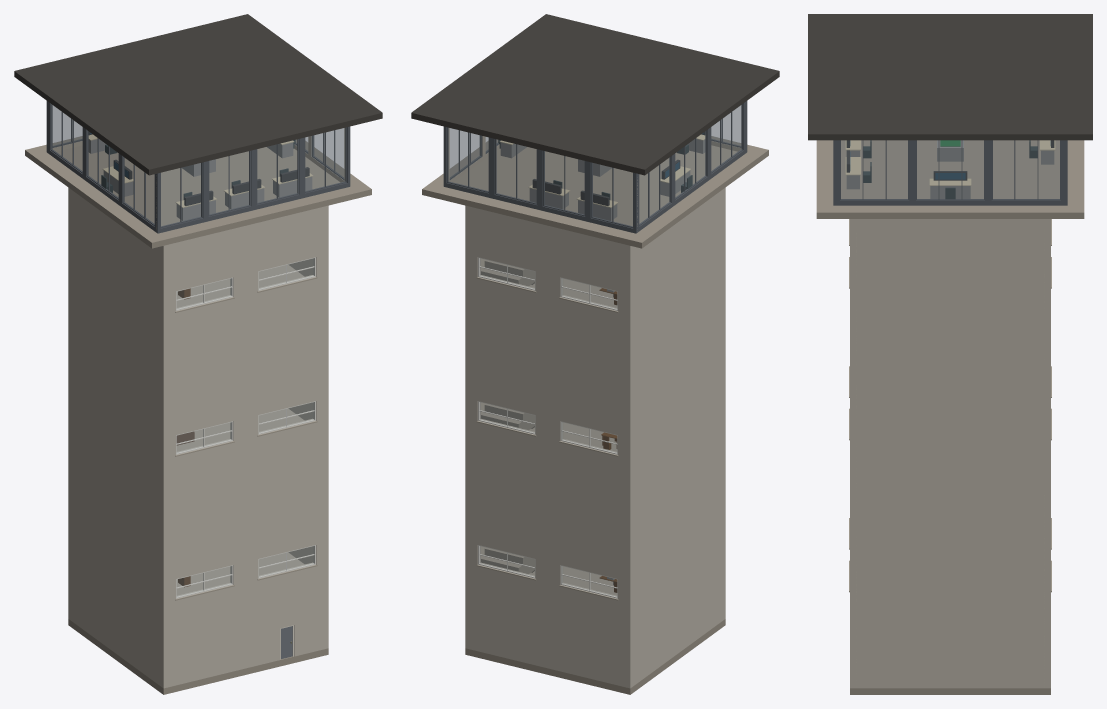
Rendered from port_control_tower.glb.
3 renders of one model, left to right at view 1: azimuth 30°, elevation 25°; view 2: azimuth 150°, elevation 25°; view 3: azimuth 270°, elevation 25°, orthographic. The views are drawn at different scales.
Parts seen in each view (by area): view 1: LOD0, FURN; view 2: LOD0, FURN; view 3: LOD0, FURN.
Boxes of the visible parts, box(x1,y1,x2,y2) form: LOD0: box(14, 14, 382, 694); FURN: box(88, 131, 313, 587); LOD0: box(411, 14, 779, 694); FURN: box(498, 131, 705, 592); LOD0: box(808, 14, 1092, 694); FURN: box(845, 140, 1055, 199).
Size of what is drawn, in the model's own units: 17 by 38.1 by 17.
